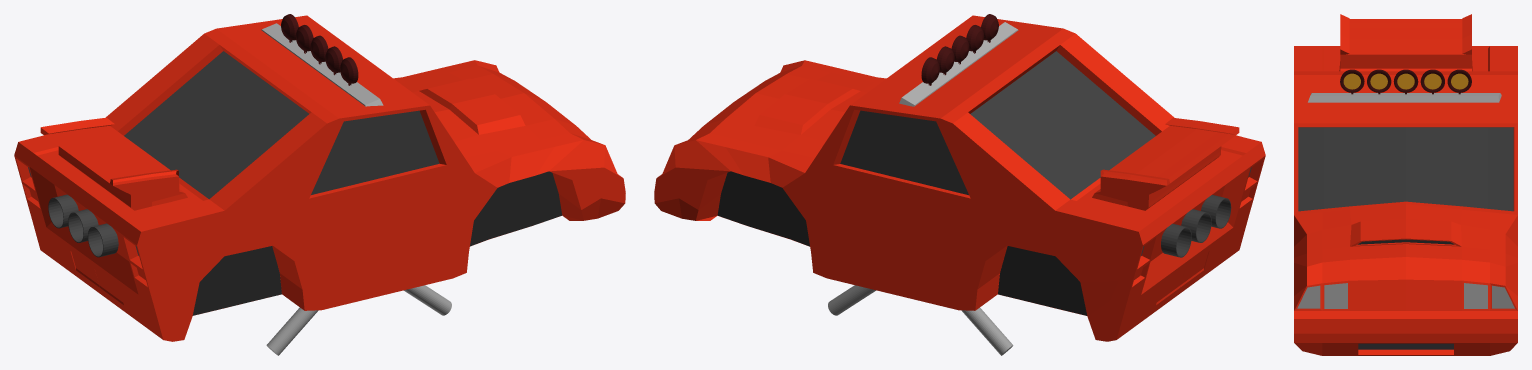
Rendered from car_body.glb.
The picture shows the model from 3 angles, left to right: view 1: azimuth 30°, elevation 25°; view 2: azimuth 150°, elevation 25°; view 3: azimuth 270°, elevation 25°; orthographic projection. The views are drawn at different scales.
Visible parts, largest first — view 1: Cube; view 2: Cube; view 3: Cube.
Part boxes in pixels (<box>): Cube: <box>14,14,625,355</box>; Cube: <box>654,14,1265,355</box>; Cube: <box>1294,14,1517,355</box>.
Bounding box in the file's own units: 1.33 × 0.7033 × 0.5803.
